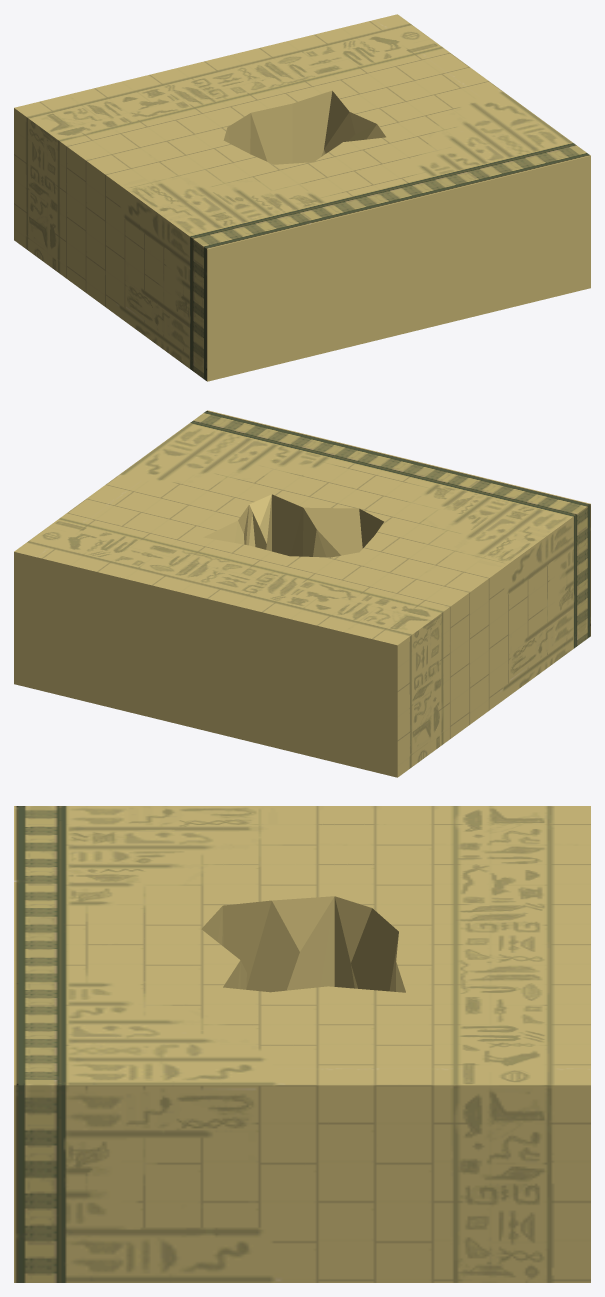
Rendered from Wand_Loch.fbx.
The picture shows the model from 3 angles, top to bottom: view 1: azimuth 30°, elevation 25°; view 2: azimuth 150°, elevation 25°; view 3: azimuth 270°, elevation 25°; orthographic projection. The views are drawn at different scales.
Parts seen in each view (by area): view 1: Cube; view 2: Cube; view 3: Cube.
Part boxes in pixels (box(x1,y1,x2,y2)): Cube: box(14, 14, 590, 381); Cube: box(14, 410, 590, 777); Cube: box(14, 806, 590, 1282).
Size of the model in its own units: 2.29 by 0.7555 by 2.
1 material, 1 textured.
